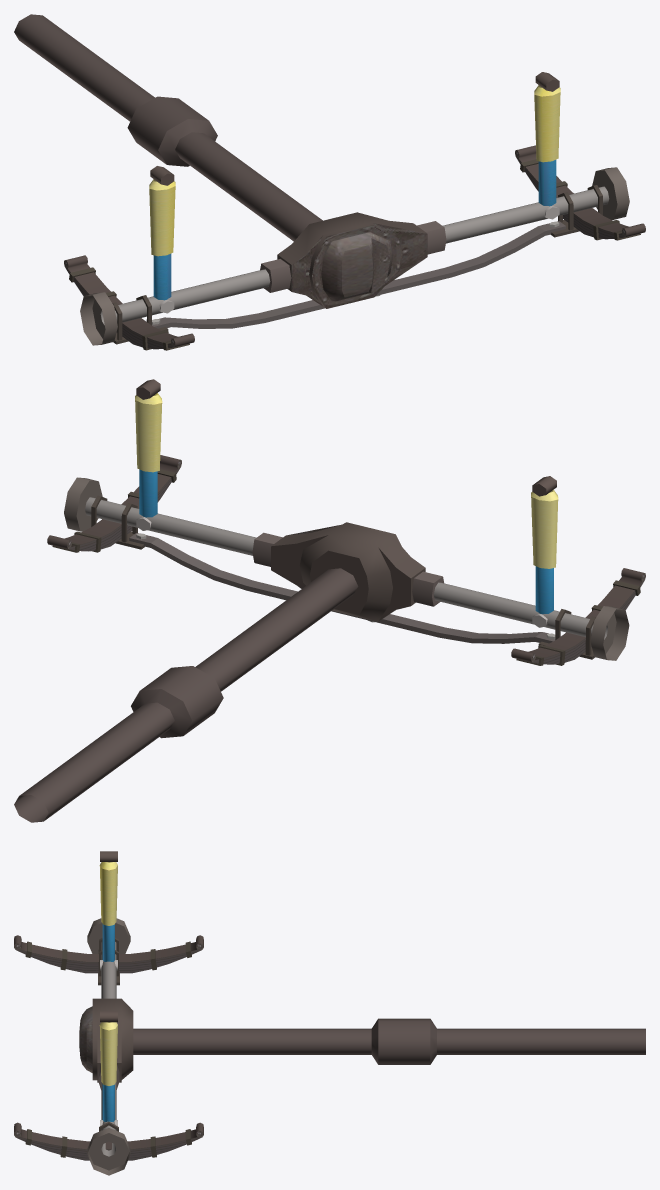
The model's file is front_susspension.fbx.
The picture shows the model from 3 angles, top to bottom: view 1: azimuth 30°, elevation 25°; view 2: azimuth 150°, elevation 25°; view 3: azimuth 270°, elevation 25°; orthographic projection. The views are drawn at different scales.
Visible parts, largest first — view 1: node_id508; view 2: node_id508; view 3: node_id508.
Part boxes in pixels (left/top/right/bottom): node_id508: left=14, top=14, right=645, bottom=350; node_id508: left=14, top=379, right=645, bottom=822; node_id508: left=14, top=851, right=645, bottom=1175.
Bounding box in the file's own units: 0.46 × 0.1489 × 0.5638.
Materials: 1 (1 with a texture image).
